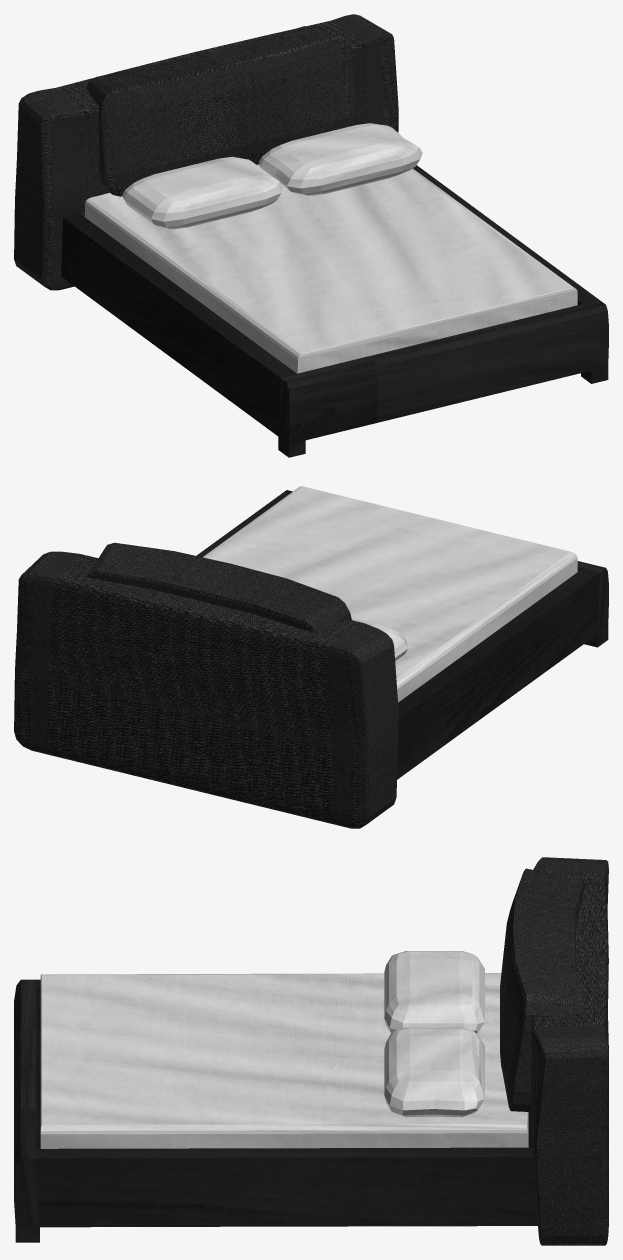
The model's file is Cama.fbx.
3 views of the same model, one above another, from view 1: azimuth 30°, elevation 25°; view 2: azimuth 150°, elevation 25°; view 3: azimuth 270°, elevation 25° (orthographic). The views are drawn at different scales.
Visible parts, largest first — view 1: Cama, almohada.001, almohada; view 2: Cama, almohada; view 3: Cama, almohada.001, almohada.
Boxes of the visible parts, x1,y1,x2,y2 form: Cama: (14,14,608,457); almohada.001: (259,123,422,195); almohada: (122,156,282,229); Cama: (14,486,608,828); almohada: (351,617,407,660); Cama: (14,857,608,1245); almohada.001: (384,1027,484,1117); almohada: (384,951,484,1033).
Size of the model in its own units: 200 by 106 by 254.
